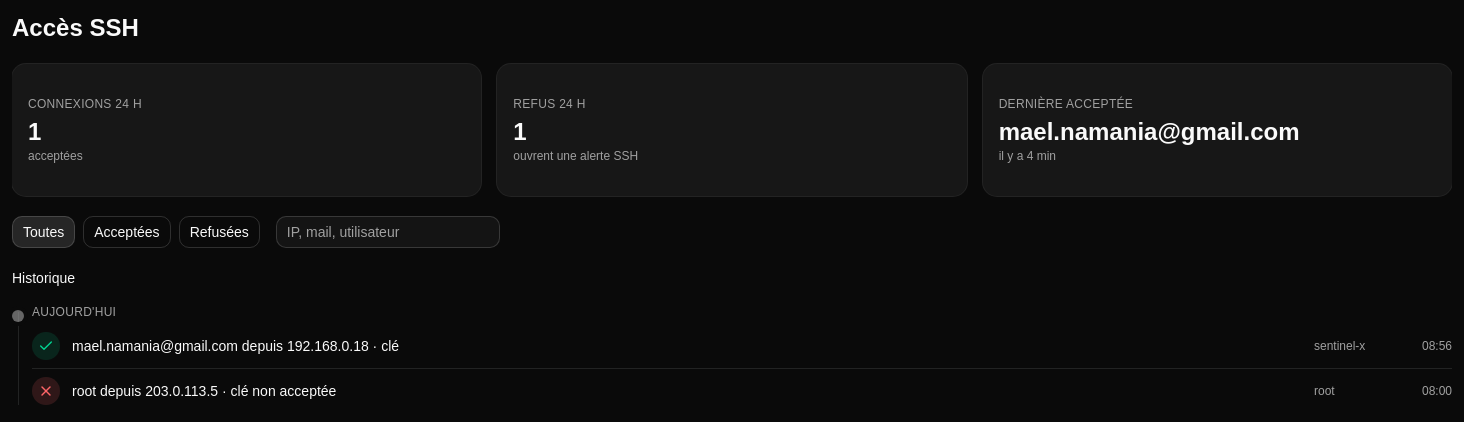
SshPageContent › filters by outcome and by text
The width and height of the screenshot is (1464, 422).
expect the heading "Accès SSH" is shown: met, box [12, 14, 139, 41]
Click the radio button labelled "Refusées" at [219, 232], box [179, 216, 260, 248]
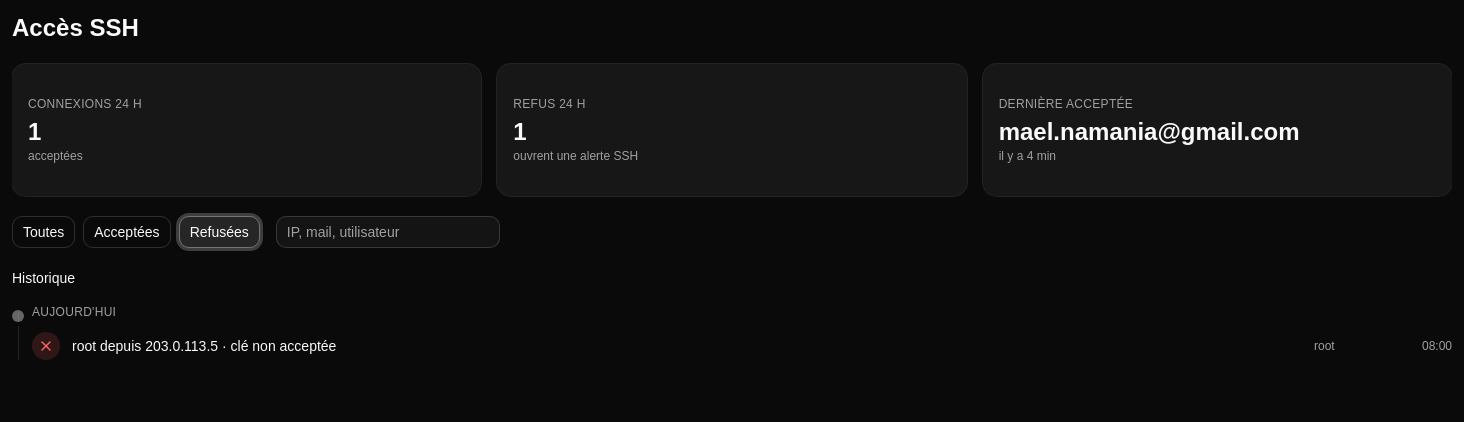
expect the text "root depuis 203.0.113.5 · clé non acceptée" is shown: met, box [72, 338, 336, 354]
expect the number of list items is 1: met, box [32, 324, 1452, 368]
Click the radio button labelled "Toutes" at [44, 232], box [12, 216, 75, 248]
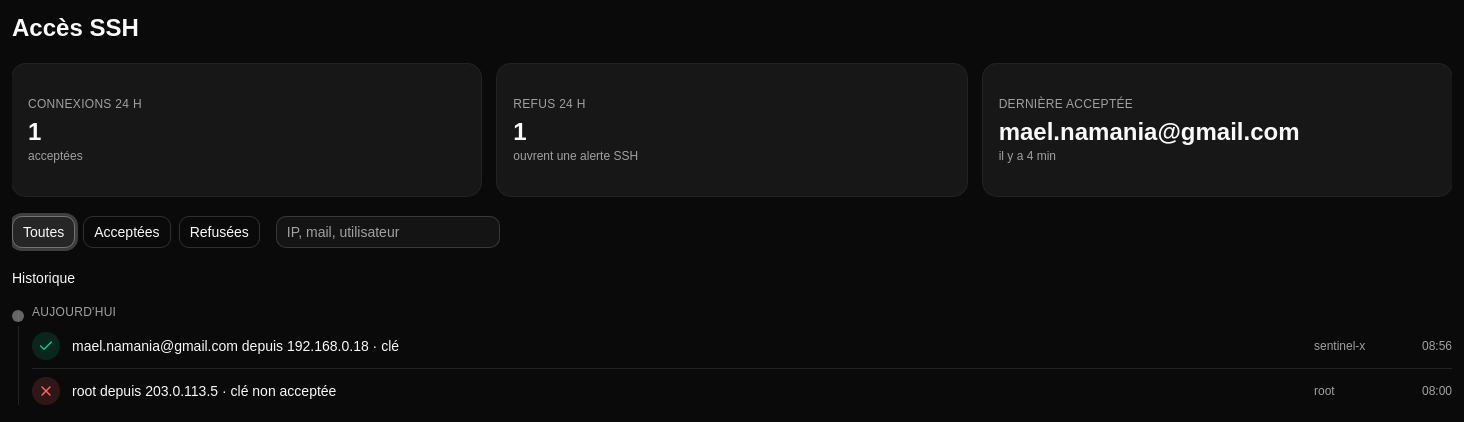
Type "MAEL" into the search field named "Rechercher" at [388, 232], box [276, 216, 500, 248]
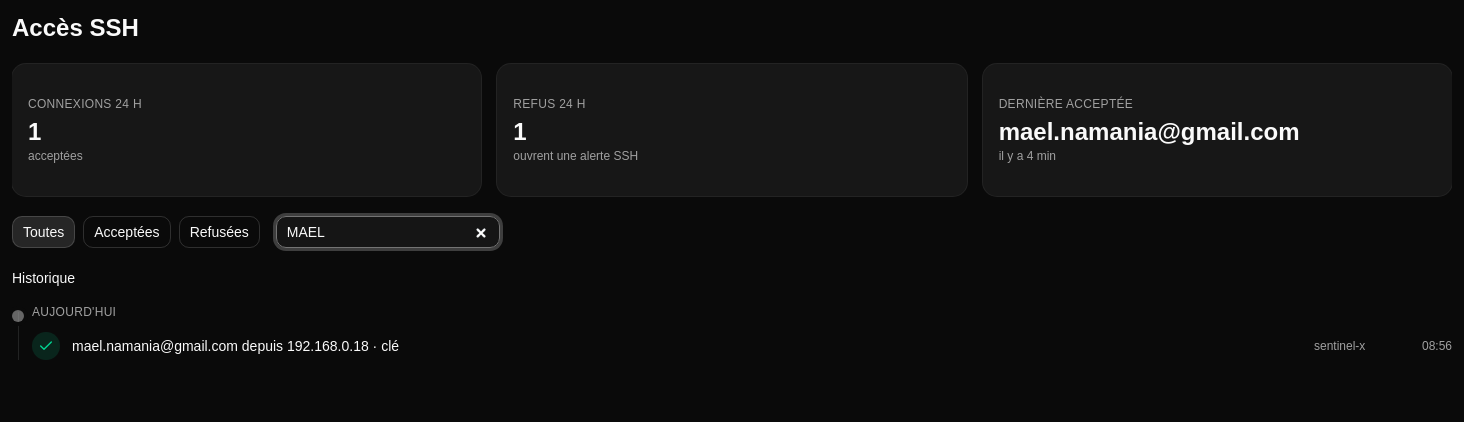
expect the list item shows "mael.namania": met, box [72, 338, 399, 354]
expect the number of list items is 1: met, box [32, 324, 1452, 368]
Replace the text in the search field named "Rechercher" with "203.0.113" at [388, 232], box [276, 216, 500, 248]
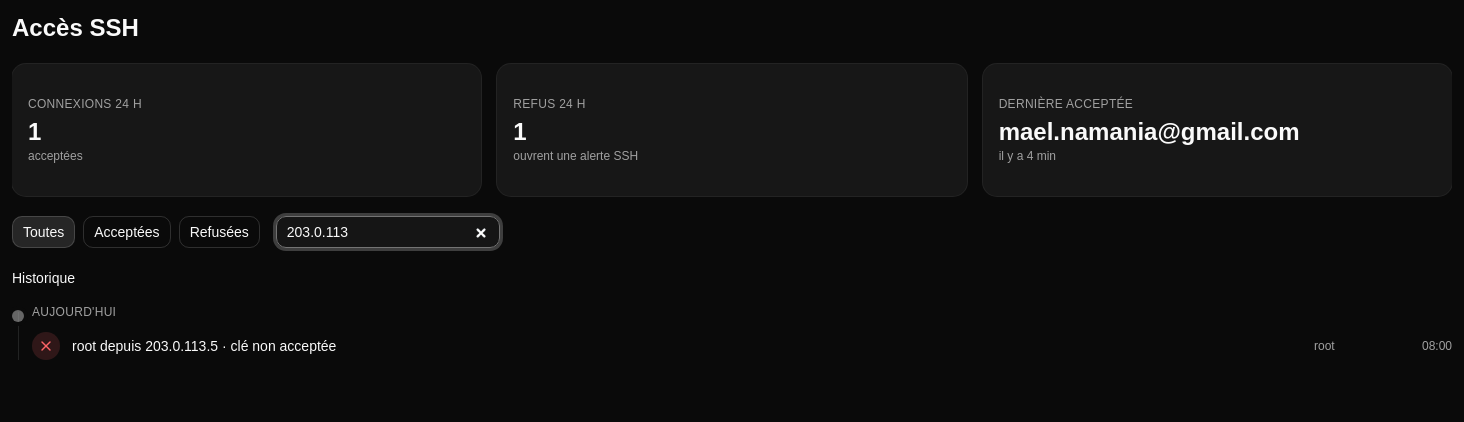
expect the number of list items is 1: met, box [32, 324, 1452, 368]
Click the radio button labelled "Acceptées" at [127, 232], box [83, 216, 171, 248]
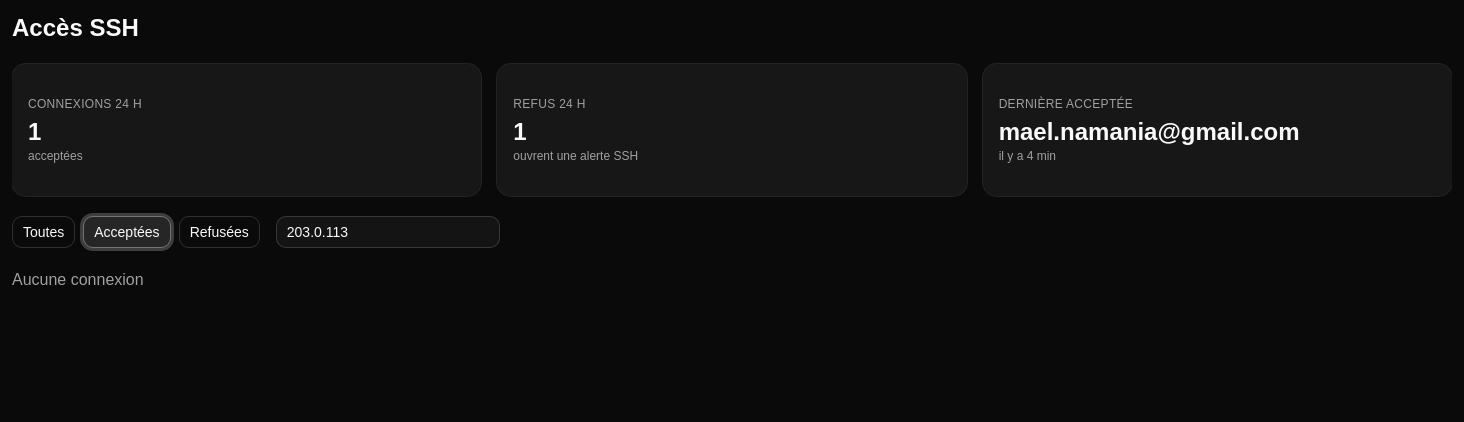
expect the text "Aucune connexion" is shown: met, box [12, 271, 144, 288]
